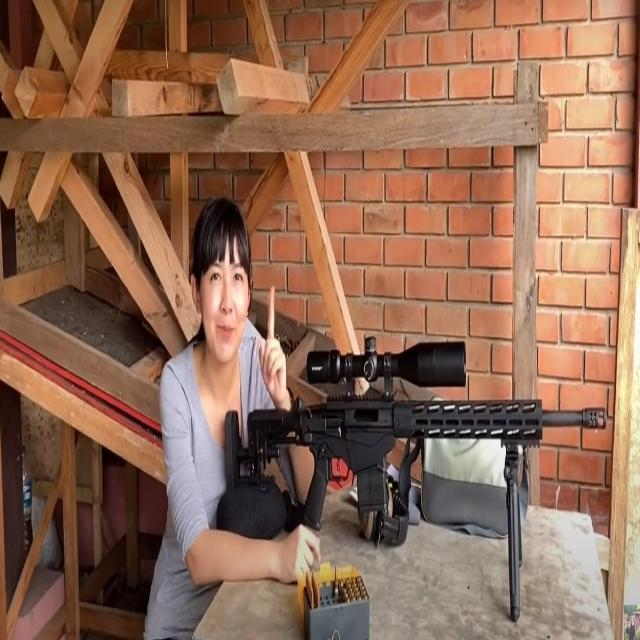rifle: (222, 328, 613, 626)
